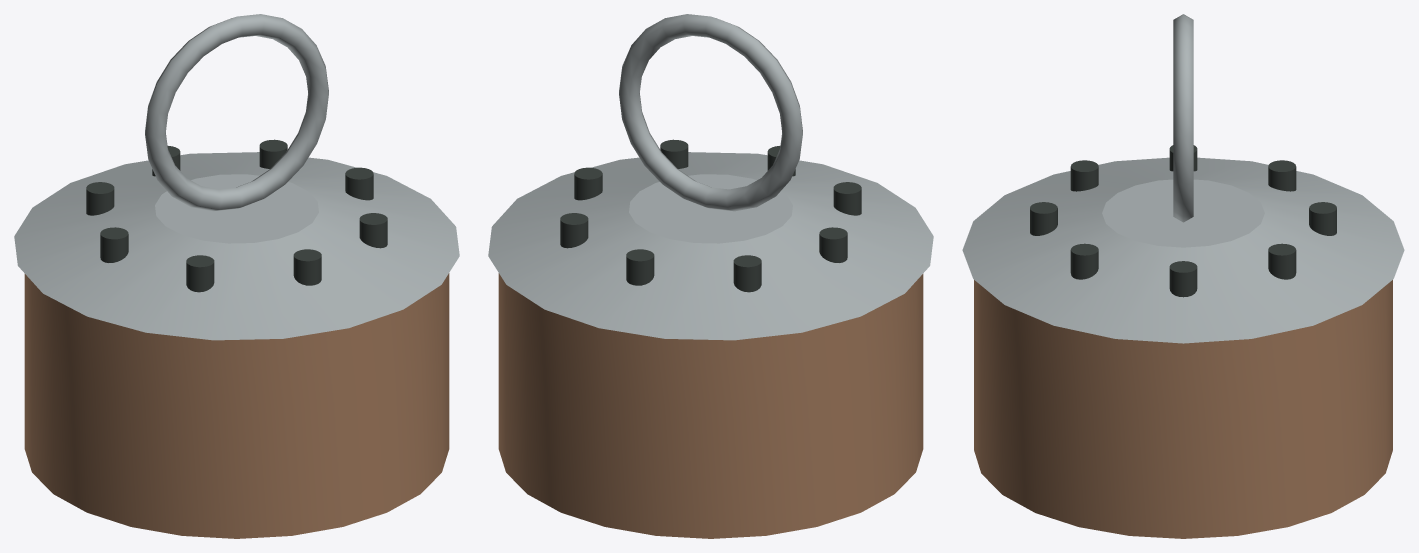
The model's file is wilderness-survival-camp-mosquito-smoke-pot-ba5bdafe__21973.glb.
3 views of the same model, side by side, from view 1: azimuth 30°, elevation 25°; view 2: azimuth 150°, elevation 25°; view 3: azimuth 270°, elevation 25° (orthographic).
Visible parts, largest first — view 1: mosquito-smoke-pot; view 2: mosquito-smoke-pot; view 3: mosquito-smoke-pot.
Boxes of the visible parts, left/top/right/bottom form: mosquito-smoke-pot: left=14, top=14, right=459, bottom=538; mosquito-smoke-pot: left=488, top=14, right=933, bottom=538; mosquito-smoke-pot: left=962, top=14, right=1404, bottom=538.
Bounding box in the file's own units: 0.38 × 0.415 × 0.38.
